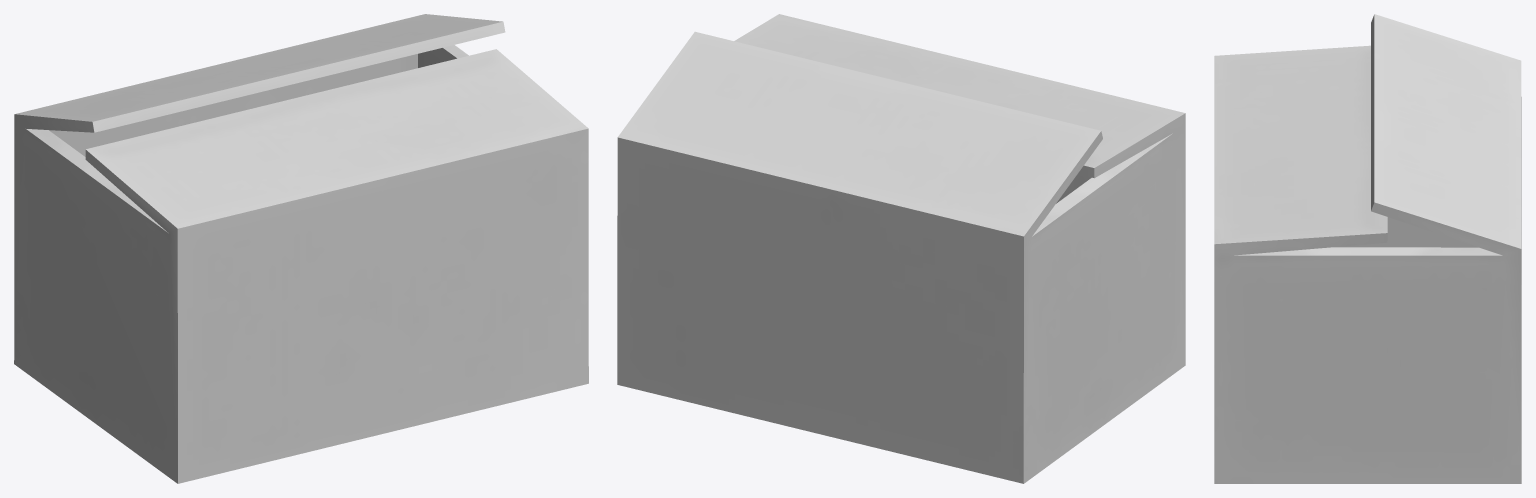
File: Pfb_PaperBox__32.fbx
The picture shows the model from 3 angles, left to right: view 1: azimuth 30°, elevation 25°; view 2: azimuth 150°, elevation 25°; view 3: azimuth 270°, elevation 25°; orthographic projection. The views are drawn at different scales.
Visible parts, largest first — view 1: Mat_PaperBox_01_02; view 2: Mat_PaperBox_01_02; view 3: Mat_PaperBox_01_02.
Boxes of the visible parts, x1,y1,x2,y2 form: Mat_PaperBox_01_02: [14, 14, 588, 483]; Mat_PaperBox_01_02: [617, 14, 1185, 483]; Mat_PaperBox_01_02: [1214, 14, 1521, 483].
Bounding box in the file's own units: 0.8516 × 0.5933 × 0.5874.
1 material, 1 textured.
